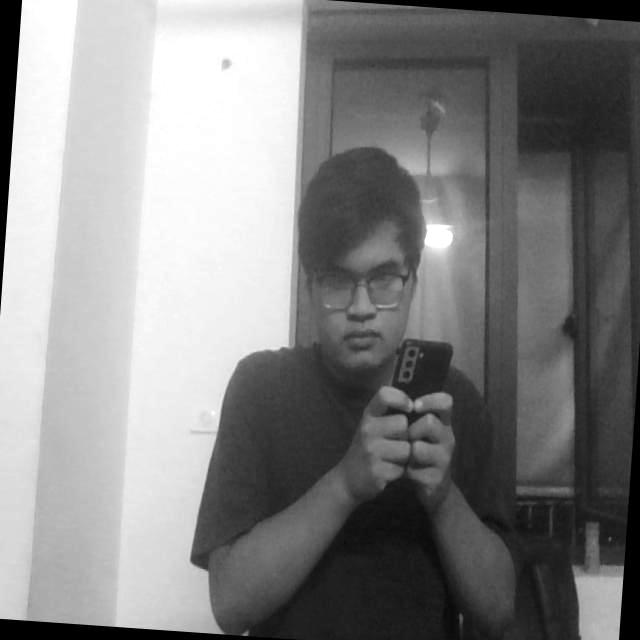phone: (378, 324, 464, 452)
